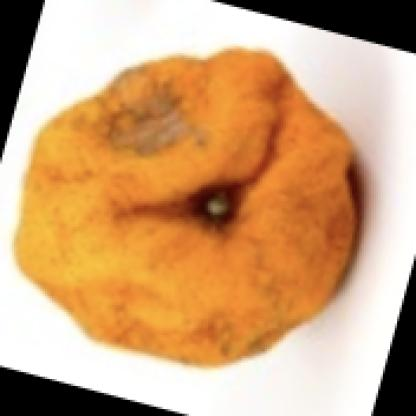rotten: (17, 48, 364, 369)
